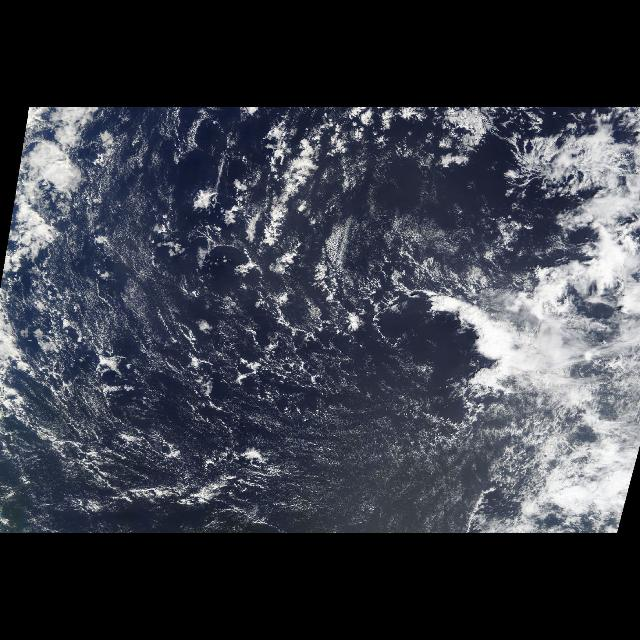Gravel: (70, 157, 392, 508)
Sugar: (47, 145, 470, 530)
